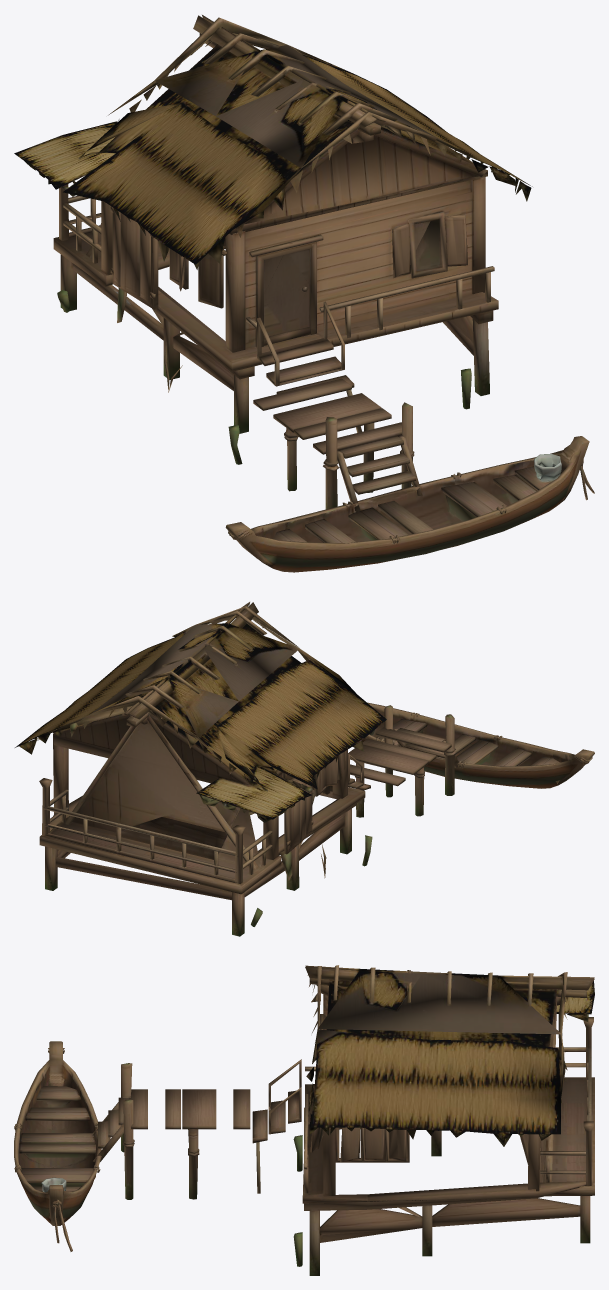
3 views of the same model, one above another, from view 1: azimuth 30°, elevation 25°; view 2: azimuth 150°, elevation 25°; view 3: azimuth 270°, elevation 25° (orthographic). The views are drawn at different scales.
Parts seen in each view (by area): view 1: tripo_node_4ac79d39-2065-4792-8712-ff1f0857b91b; view 2: tripo_node_4ac79d39-2065-4792-8712-ff1f0857b91b; view 3: tripo_node_4ac79d39-2065-4792-8712-ff1f0857b91b.
Part boxes in pixels (box(x1,y1,x2,y2)): tripo_node_4ac79d39-2065-4792-8712-ff1f0857b91b: box(14, 15, 594, 572); tripo_node_4ac79d39-2065-4792-8712-ff1f0857b91b: box(15, 602, 594, 936); tripo_node_4ac79d39-2065-4792-8712-ff1f0857b91b: box(14, 965, 594, 1275).
Size of the model in its own units: 0.7715 by 0.502 by 0.998.
Materials: 1 (1 with a texture image).
